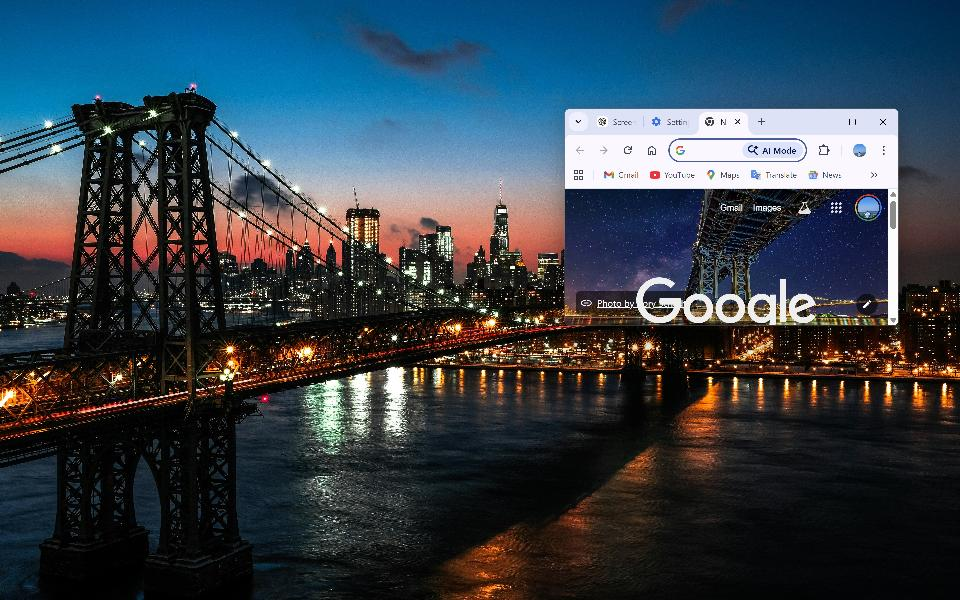close_button: (873, 115, 894, 131)
maximize_button: (841, 115, 864, 132)
minimize_button: (813, 112, 832, 133)
